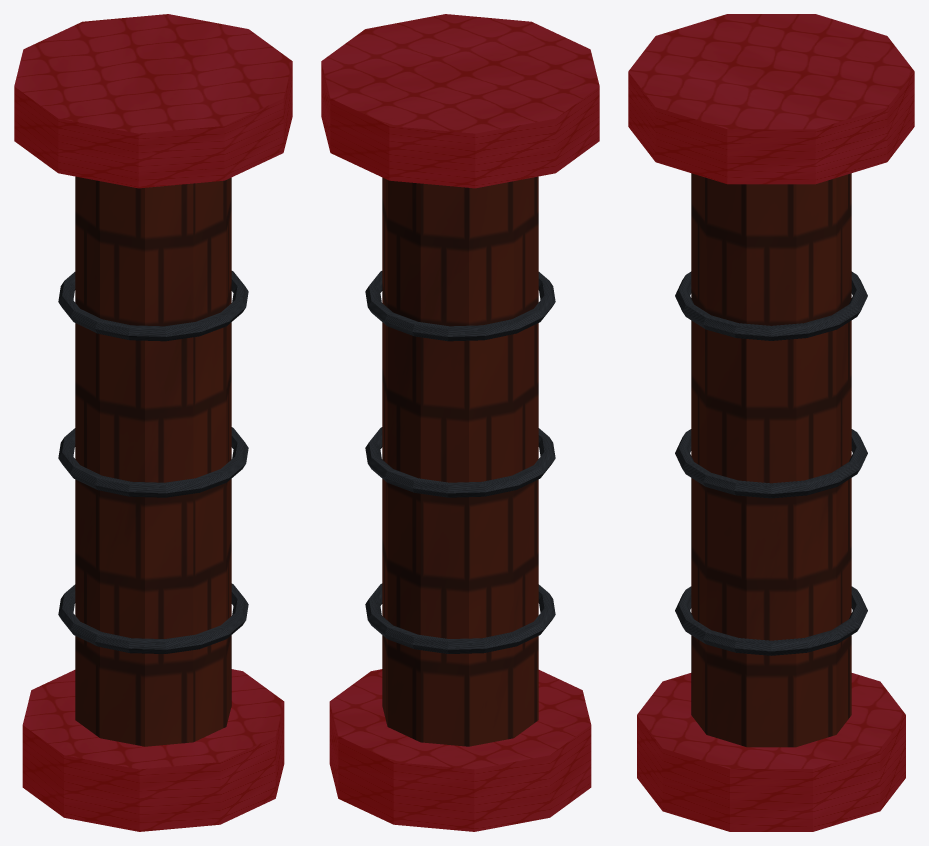
The model's file is SM_FC_Pillar_360.glb.
The picture shows the model from 3 angles, left to right: view 1: azimuth 30°, elevation 25°; view 2: azimuth 150°, elevation 25°; view 3: azimuth 270°, elevation 25°; orthographic projection.
Visible parts, largest first — view 1: SM_FC_Pillar_360; view 2: SM_FC_Pillar_360; view 3: SM_FC_Pillar_360.
Boxes of the visible parts, x1,y1,x2,y2 form: SM_FC_Pillar_360: (14,14,292,831); SM_FC_Pillar_360: (321,14,599,831); SM_FC_Pillar_360: (628,14,914,831).
Bounding box in the file's own units: 1.26 × 3.59 × 1.32.
3 materials, 3 textured.
